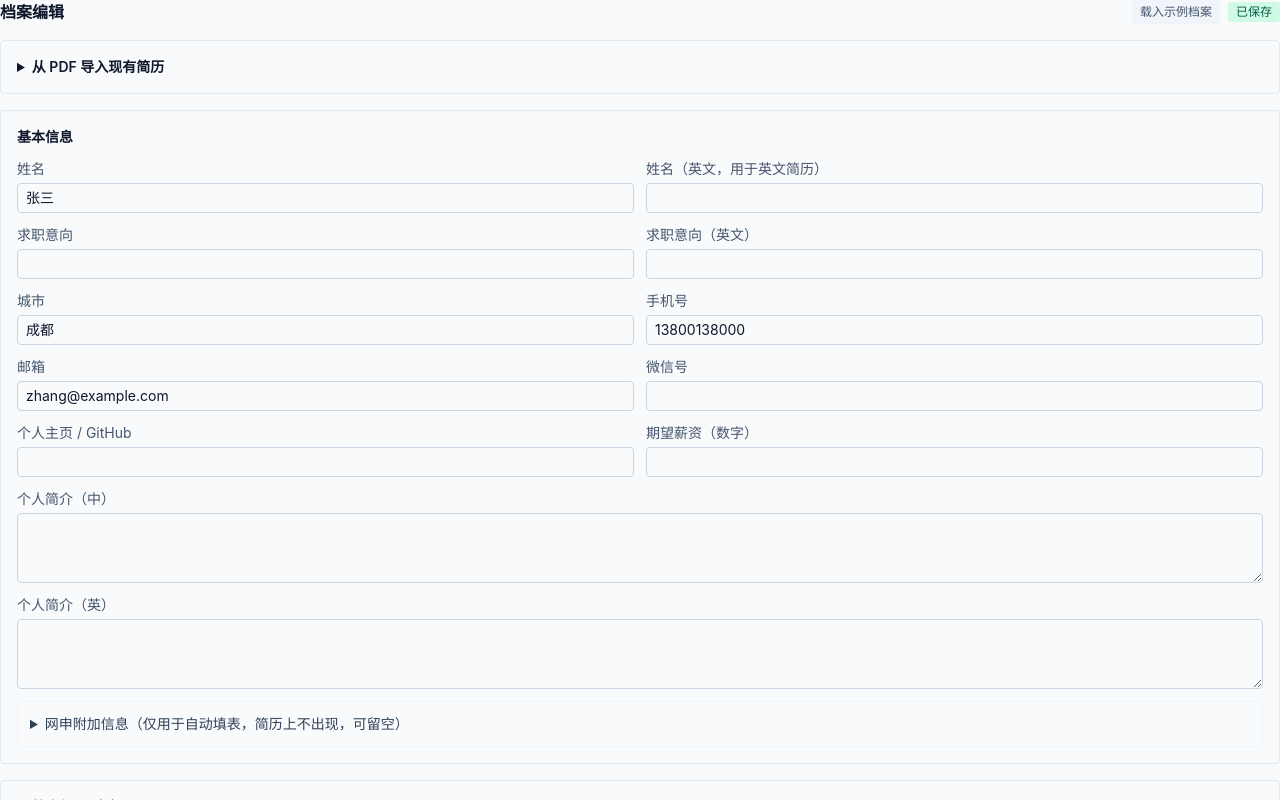
it: T8.1 档案编辑器 —— 三态徽标与保存按钮 › 起点显示「已保存」；合法编辑 → 「有未保存的修改」；保存 → 回到「已保存」且回调收到新值
This screenshot has width=1280, height=800.
Check: the text with test id "editor-status" reads "已保存", box [1236, 4, 1272, 19]
Replace the text in the field labelled "城市" with "杭州": (326, 330) [17, 315, 634, 345]
(page scrolled)
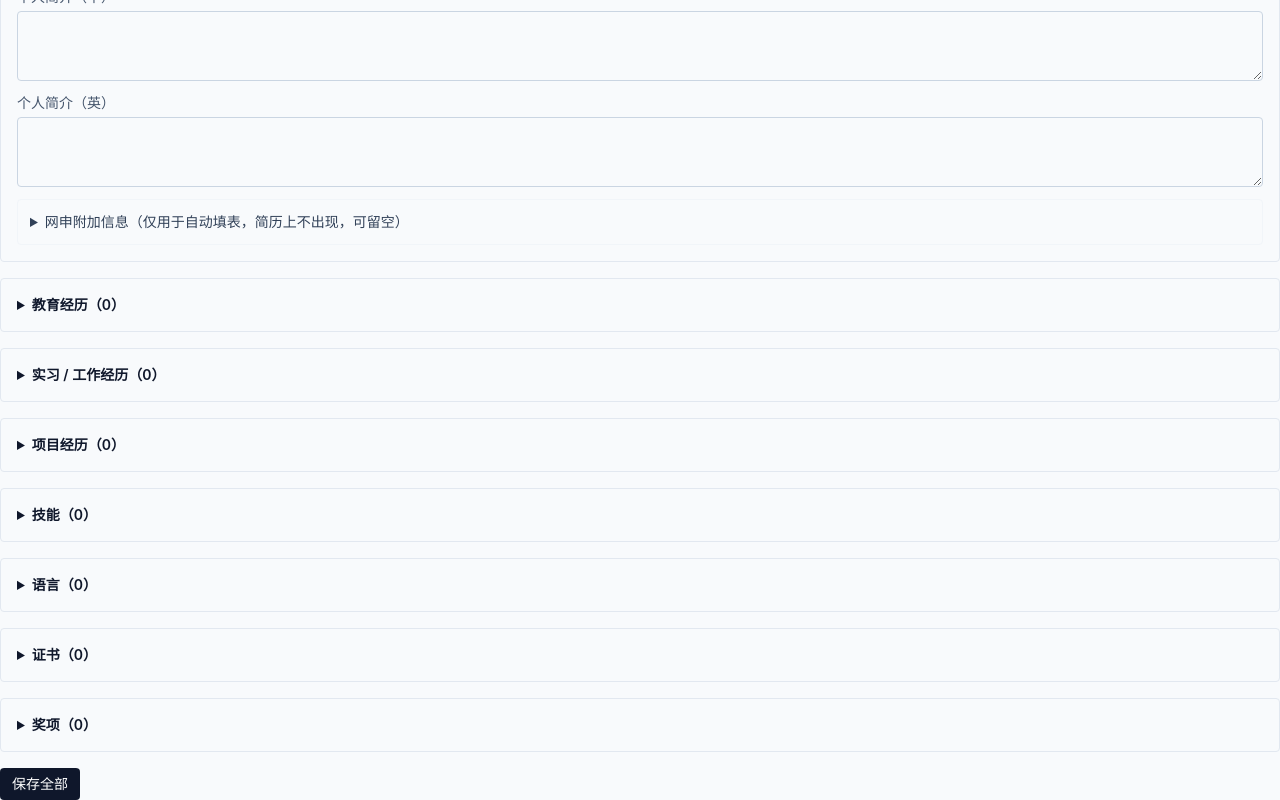
Click the button with test id "editor-save": (40, 784) [0, 768, 80, 799]
(page scrolled)
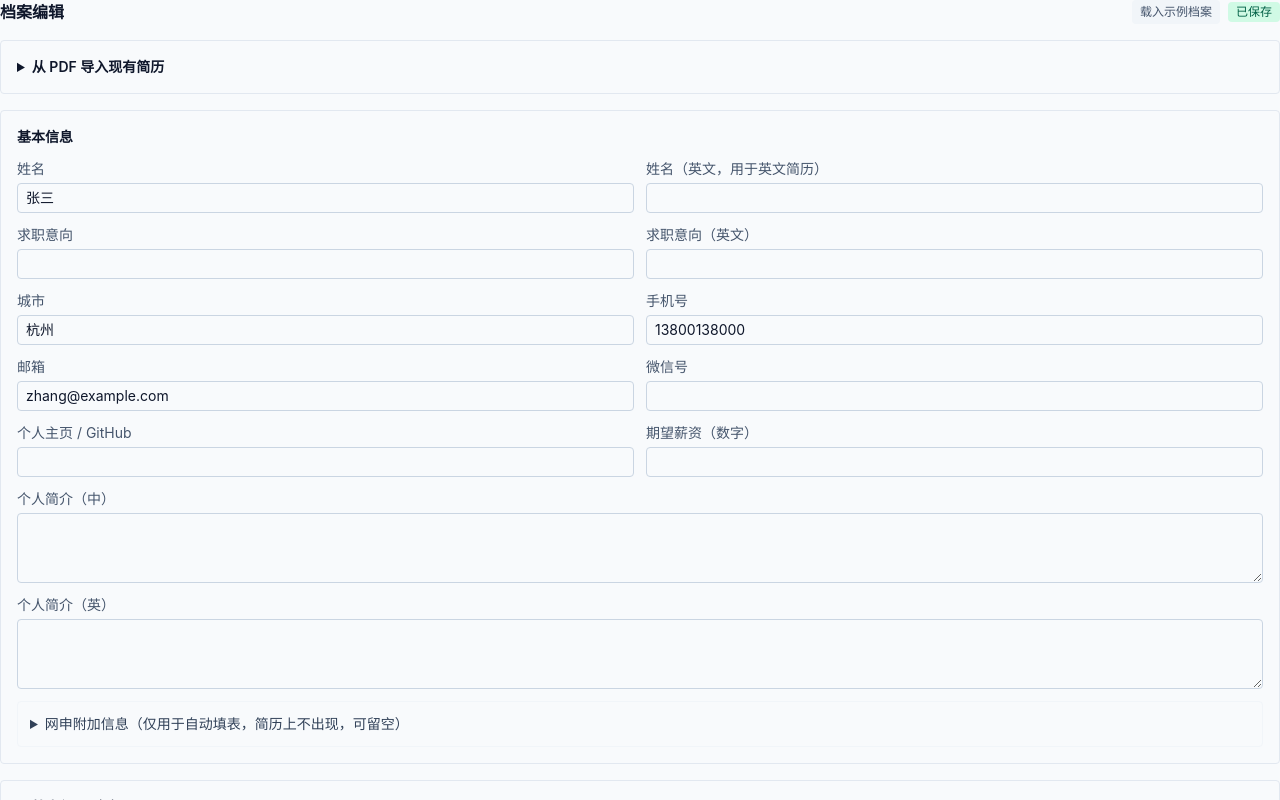
Check: the text with test id "editor-status" reads "已保存", box [1236, 4, 1272, 19]
